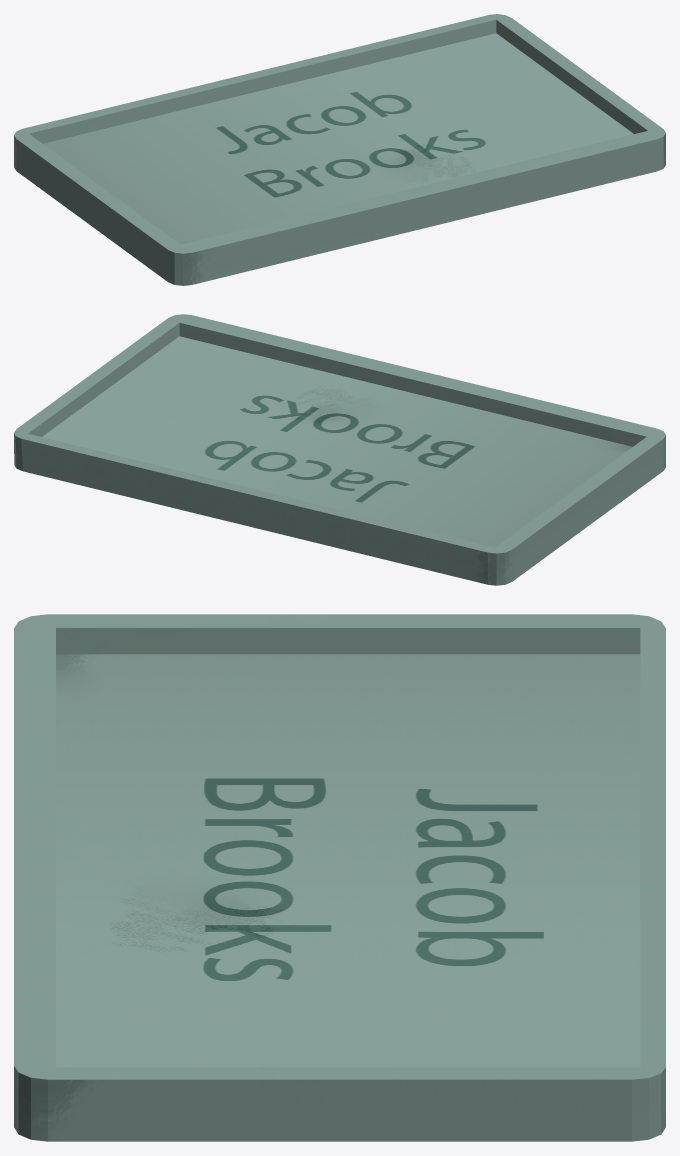
File: JacobBrooks.fbx
3 views of the same model, one above another, from view 1: azimuth 30°, elevation 25°; view 2: azimuth 150°, elevation 25°; view 3: azimuth 270°, elevation 25° (orthographic). The views are drawn at different scales.
Visible parts, largest first — view 1: Jacob Brooks Mesh; view 2: Jacob Brooks Mesh; view 3: Jacob Brooks Mesh.
Boxes of the visible parts, x1,y1,x2,y2 form: Jacob Brooks Mesh: (14, 14, 665, 285); Jacob Brooks Mesh: (14, 314, 665, 585); Jacob Brooks Mesh: (14, 614, 665, 1141).
Bounding box in the file's own units: 188 × 11.72 × 112.
Materials: 1 (1 with a texture image).
